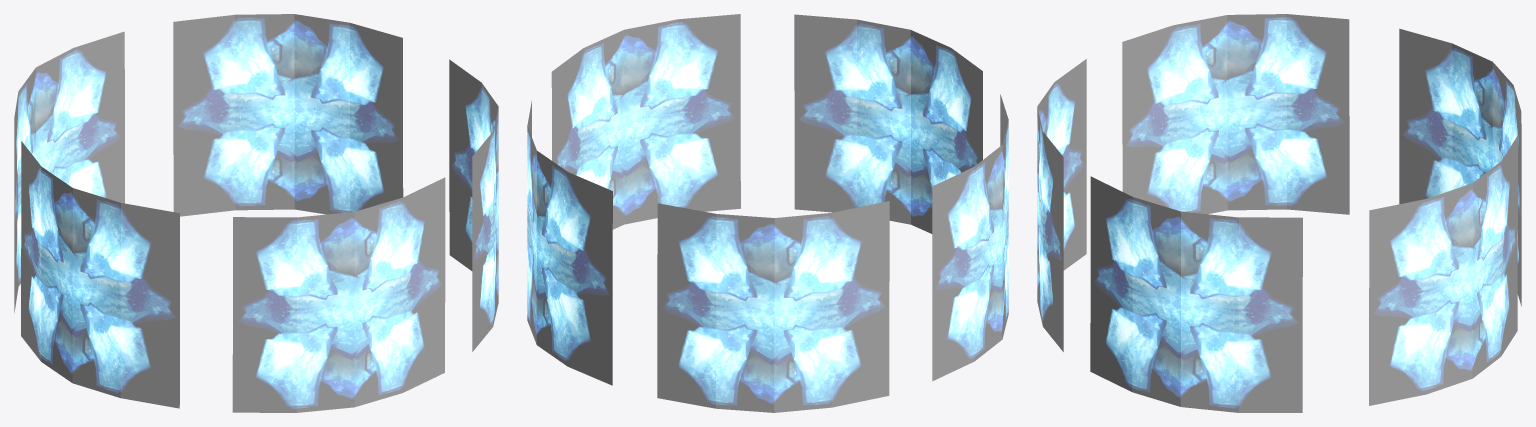
The picture shows the model from 3 angles, left to right: view 1: azimuth 30°, elevation 25°; view 2: azimuth 150°, elevation 25°; view 3: azimuth 270°, elevation 25°; orthographic projection.
Parts seen in each view (by area): view 1: Plane_Baked; view 2: Plane_Baked; view 3: Plane_Baked.
Boxes of the visible parts, x1,y1,x2,y2 form: Plane_Baked: (14,14,498,412); Plane_Baked: (527,14,1008,412); Plane_Baked: (1037,14,1521,412).
Bounding box in the file's own units: 1345 × 605 × 1355.
